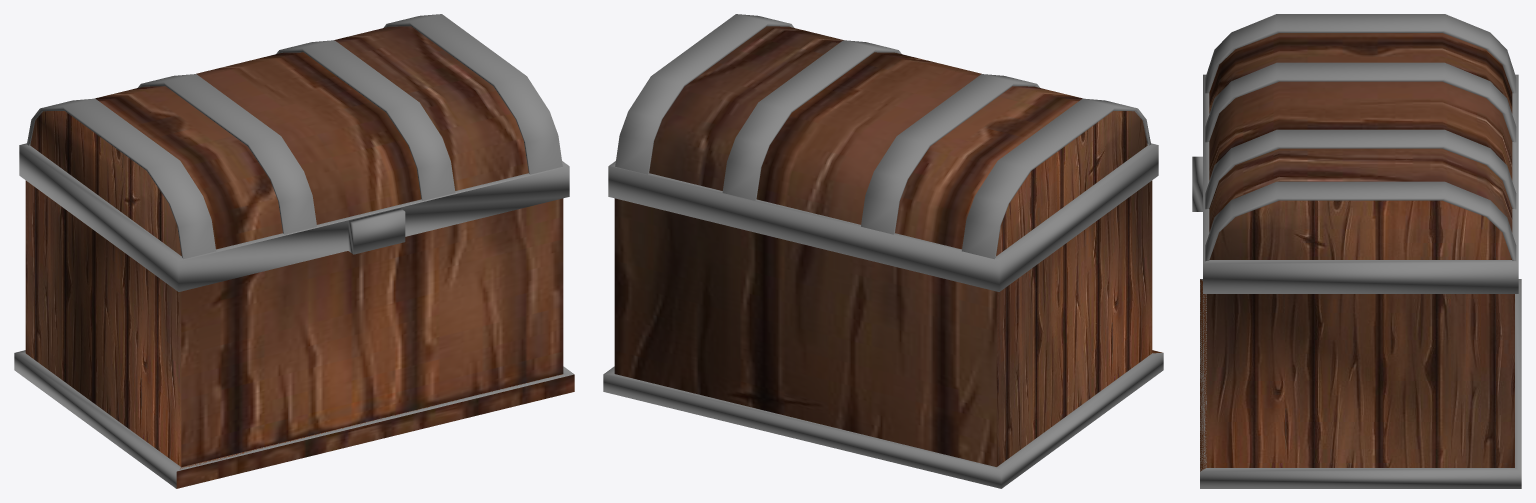
Rendered from drop.FBX.
The picture shows the model from 3 angles, left to right: view 1: azimuth 30°, elevation 25°; view 2: azimuth 150°, elevation 25°; view 3: azimuth 270°, elevation 25°; orthographic projection.
Visible parts, largest first — view 1: drop; view 2: drop; view 3: drop.
Boxes of the visible parts, bbox=[...] form: drop: bbox=[14, 14, 574, 488]; drop: bbox=[603, 14, 1163, 488]; drop: bbox=[1192, 14, 1521, 488].
Size of what is drawn, in the model's own units: 423 by 306 by 294.
